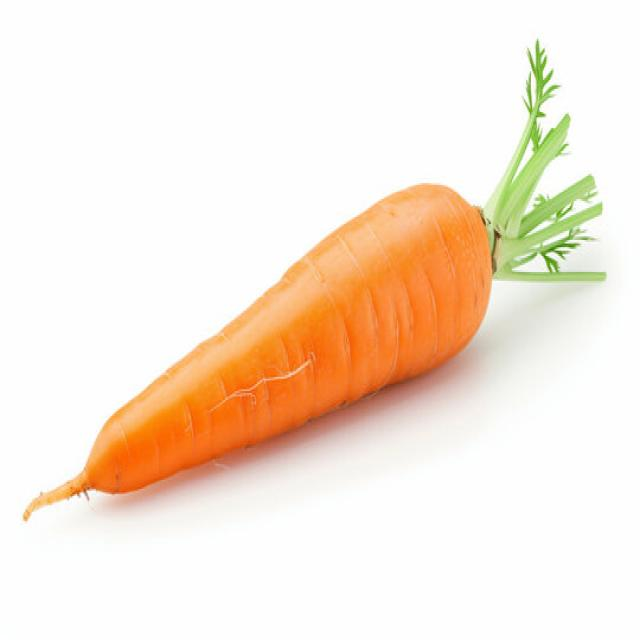Carrot: (23, 80, 580, 532)
